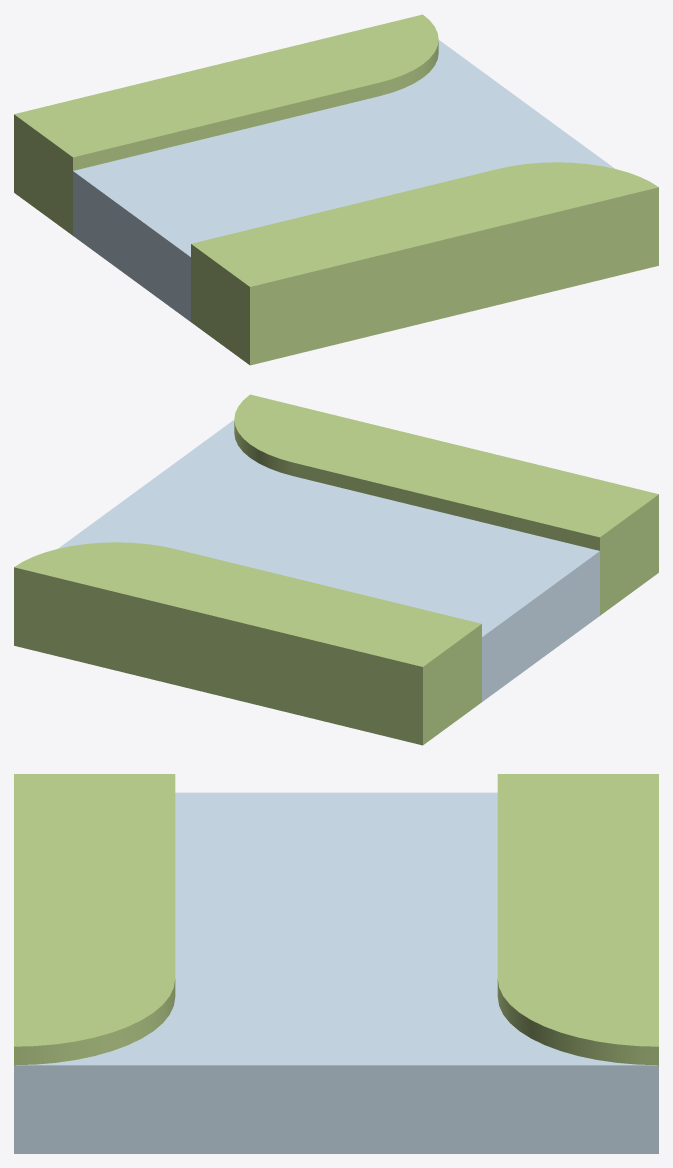
Rendered from roadtile-176.glb.
The picture shows the model from 3 angles, top to bottom: view 1: azimuth 30°, elevation 25°; view 2: azimuth 150°, elevation 25°; view 3: azimuth 270°, elevation 25°; orthographic projection. The views are drawn at different scales.
Visible parts, largest first — view 1: Mesh1 Group1 Model; view 2: Mesh1 Group1 Model; view 3: Mesh1 Group1 Model.
Boxes of the visible parts, bbox=[...] form: Mesh1 Group1 Model: bbox=[14, 14, 658, 365]; Mesh1 Group1 Model: bbox=[14, 394, 658, 745]; Mesh1 Group1 Model: bbox=[14, 774, 658, 1153].
Size of the model in its own units: 3 by 0.55 by 3.
